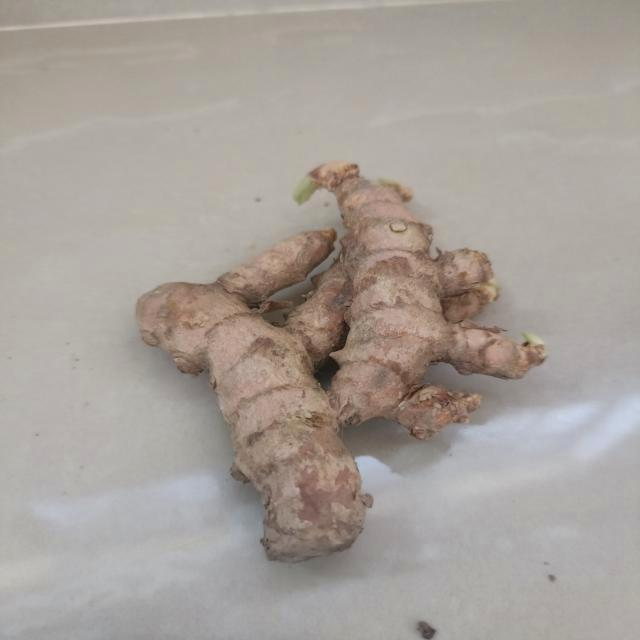ginger: (123, 146, 550, 571)
